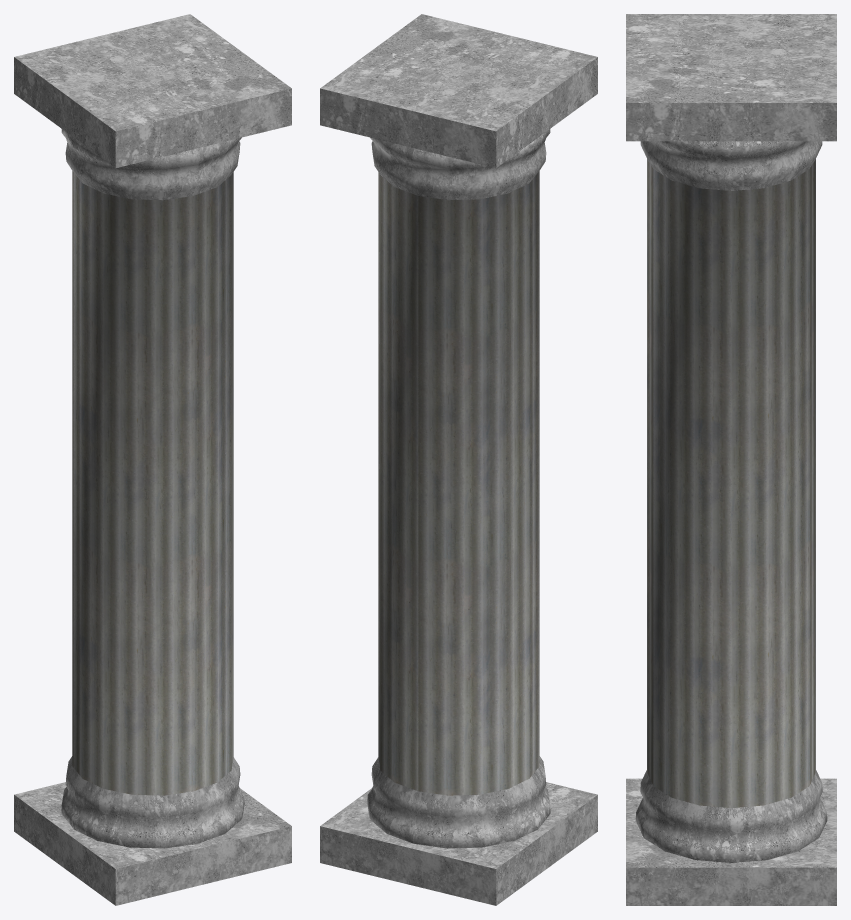
The model's file is Column.FBX.
3 views of the same model, side by side, from view 1: azimuth 30°, elevation 25°; view 2: azimuth 150°, elevation 25°; view 3: azimuth 270°, elevation 25° (orthographic). The views are drawn at different scales.
Visible parts, largest first — view 1: Cylinder001; view 2: Cylinder001; view 3: Cylinder001.
Part boxes in pixels (x1=…): Cylinder001: x1=14, y1=14, x2=291, y2=905; Cylinder001: x1=320, y1=14, x2=597, y2=905; Cylinder001: x1=626, y1=14, x2=836, y2=905.
Bounding box in the file's own units: 80 × 336 × 80.
Materials: 2 (2 with a texture image).
